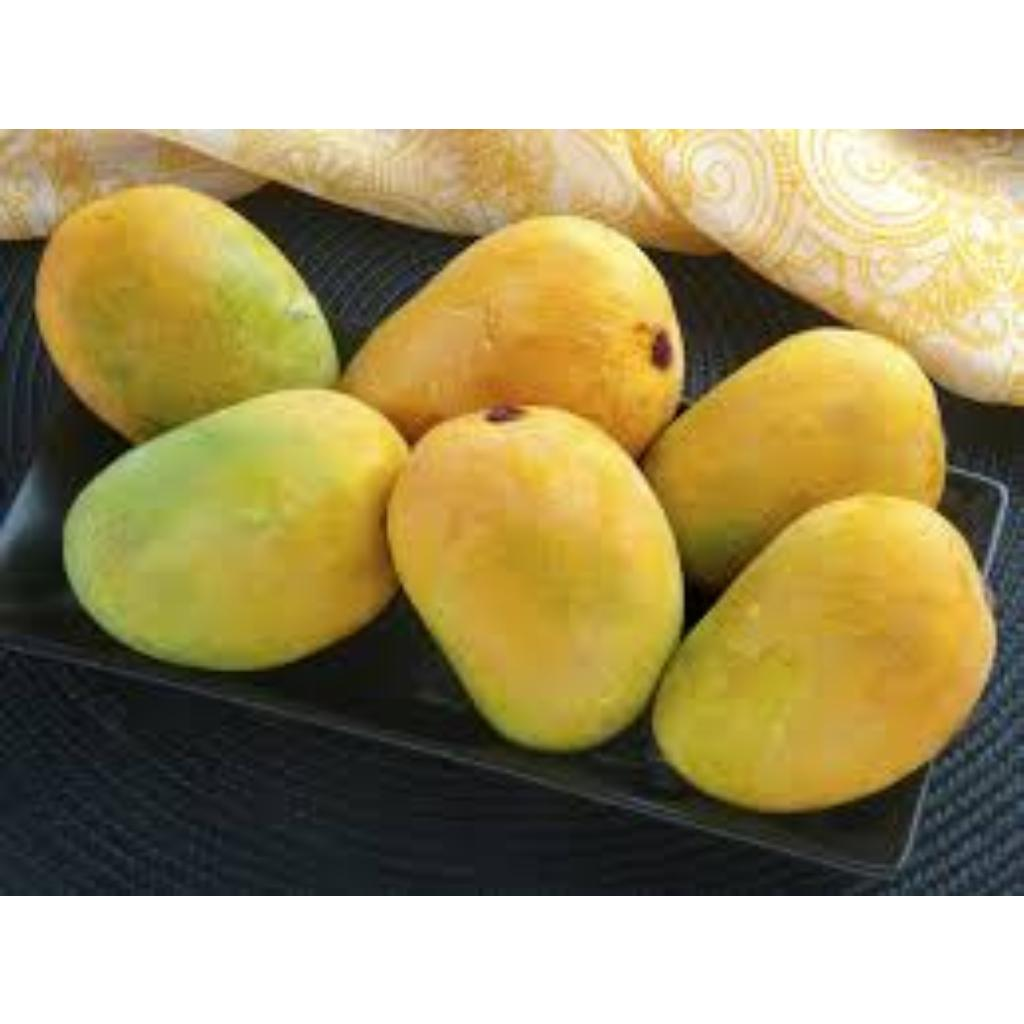mango: (384, 405, 684, 757), (69, 377, 403, 651), (343, 213, 698, 466), (642, 323, 948, 582), (35, 182, 347, 394), (653, 608, 746, 798)
